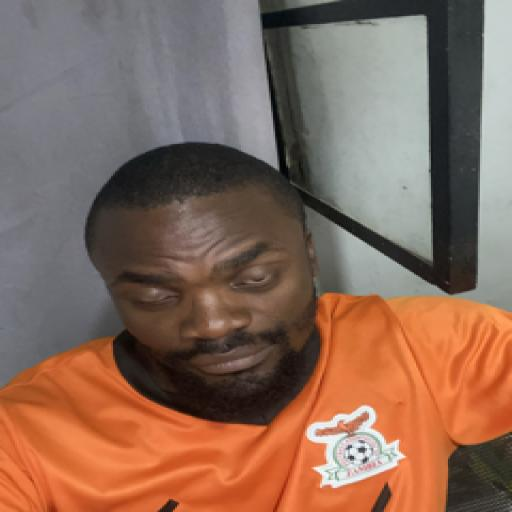JEANLUC: (70, 141, 330, 402)
